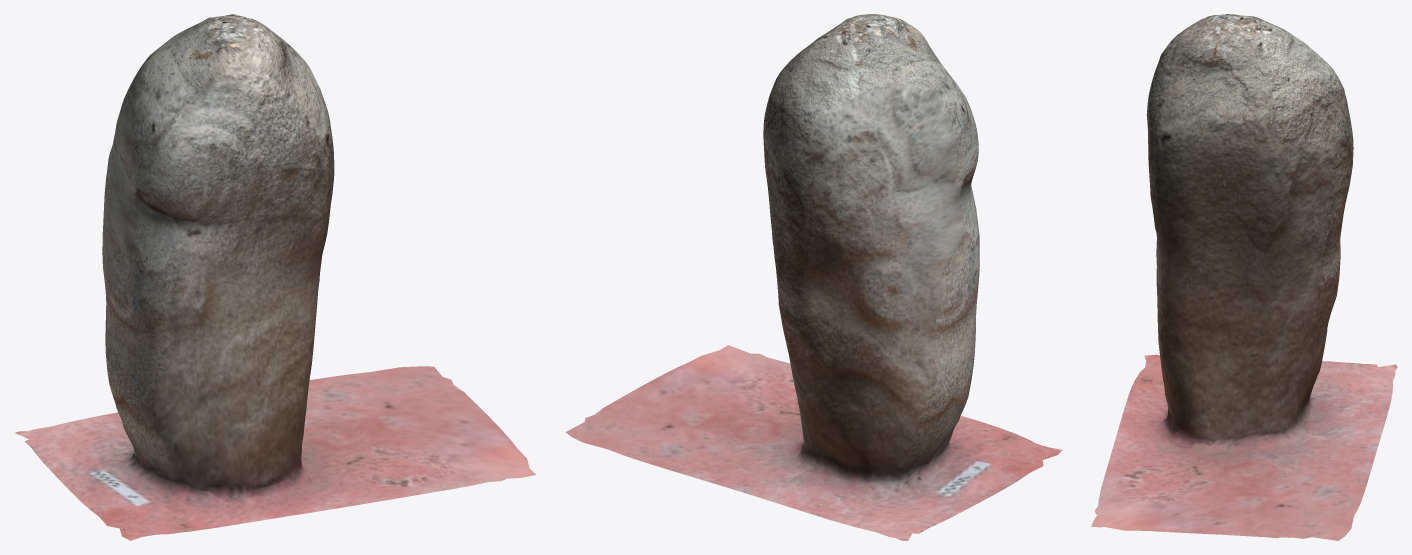
The picture shows the model from 3 angles, left to right: view 1: azimuth 30°, elevation 25°; view 2: azimuth 150°, elevation 25°; view 3: azimuth 270°, elevation 25°; orthographic projection. The views are drawn at different scales.
Visible parts, largest first — view 1: Object; view 2: Object; view 3: Object.
Part boxes in pixels (left/top/right/bottom): Object: left=14, top=14, right=536, bottom=540; Object: left=565, top=14, right=1061, bottom=540; Object: left=1091, top=14, right=1397, bottom=540.
Size of the model in its own units: 1.05 by 1.09 by 0.741.
Materials: 1 (1 with a texture image).
